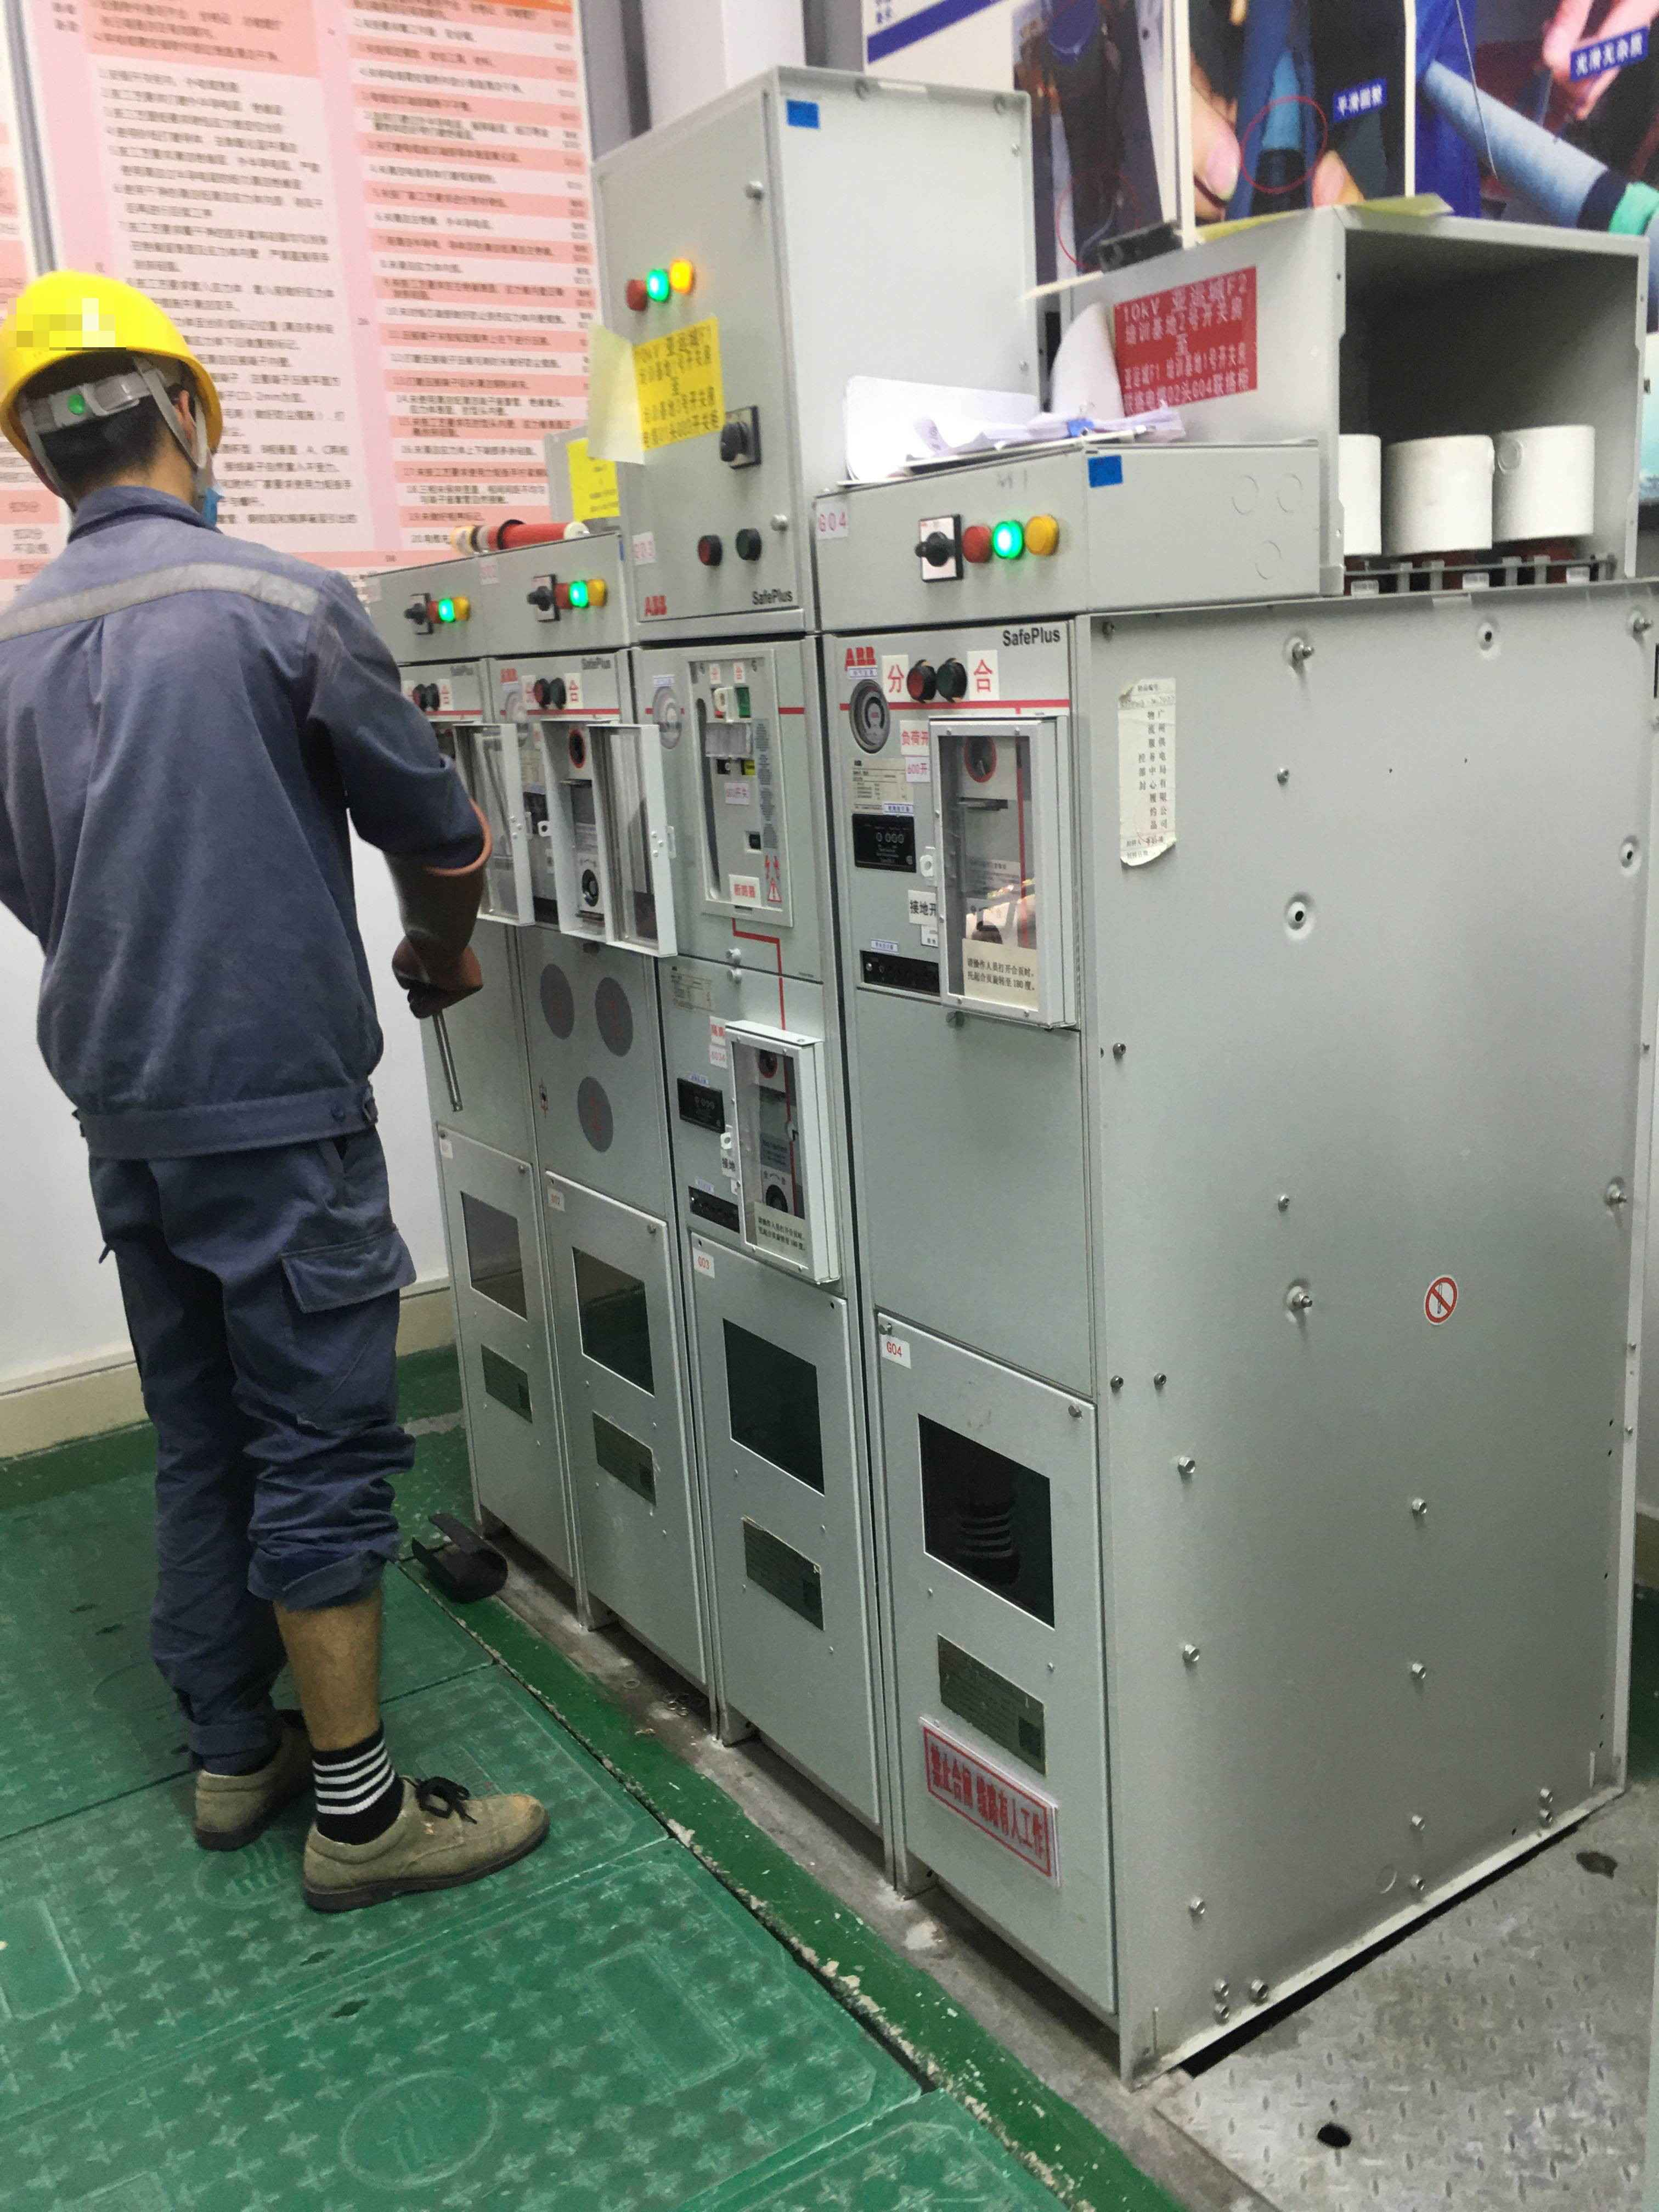downsuit: (92, 1162, 418, 1771)
upsuit: (2, 502, 477, 1157)
wrongbottom: (253, 1500, 415, 1787)
